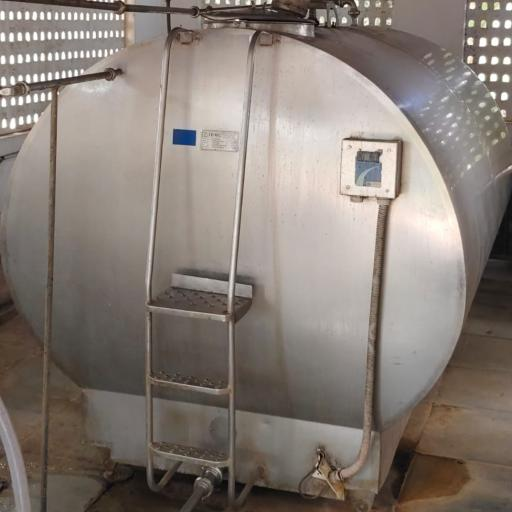silo: (0, 2, 511, 502)
